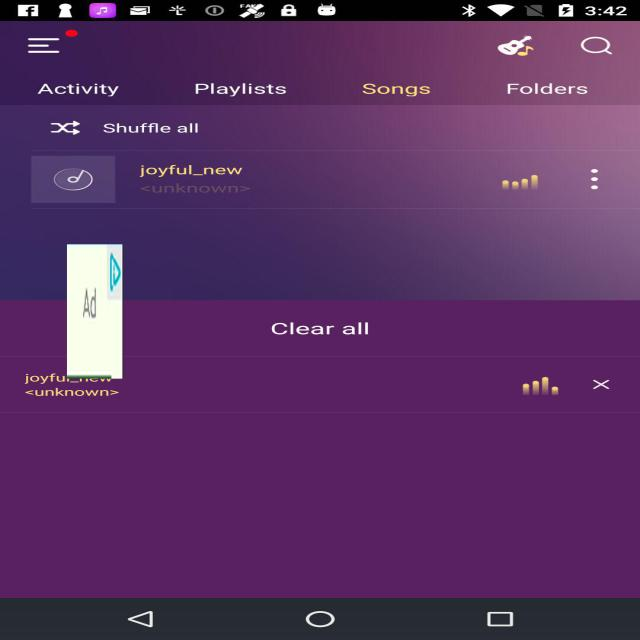sneaking: (67, 244, 123, 379)
